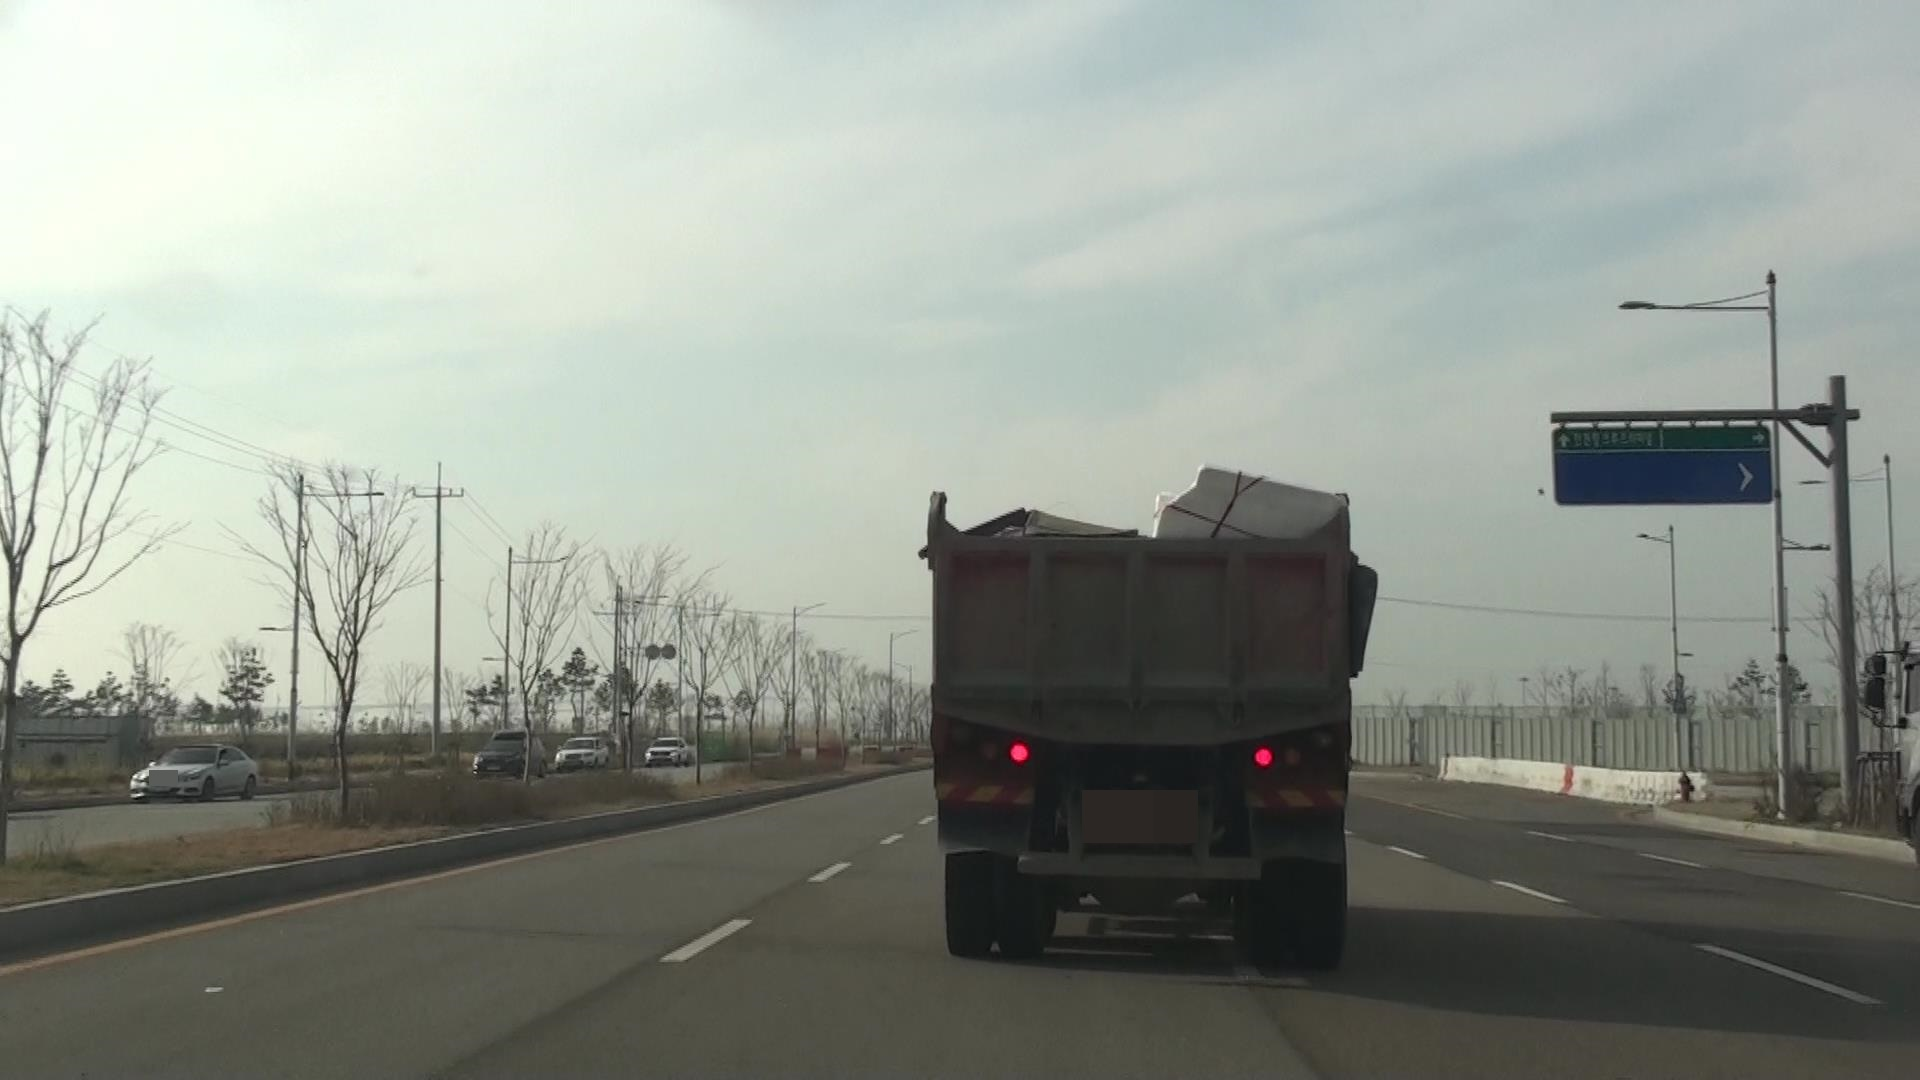불법차량: (917, 465, 1380, 976)
